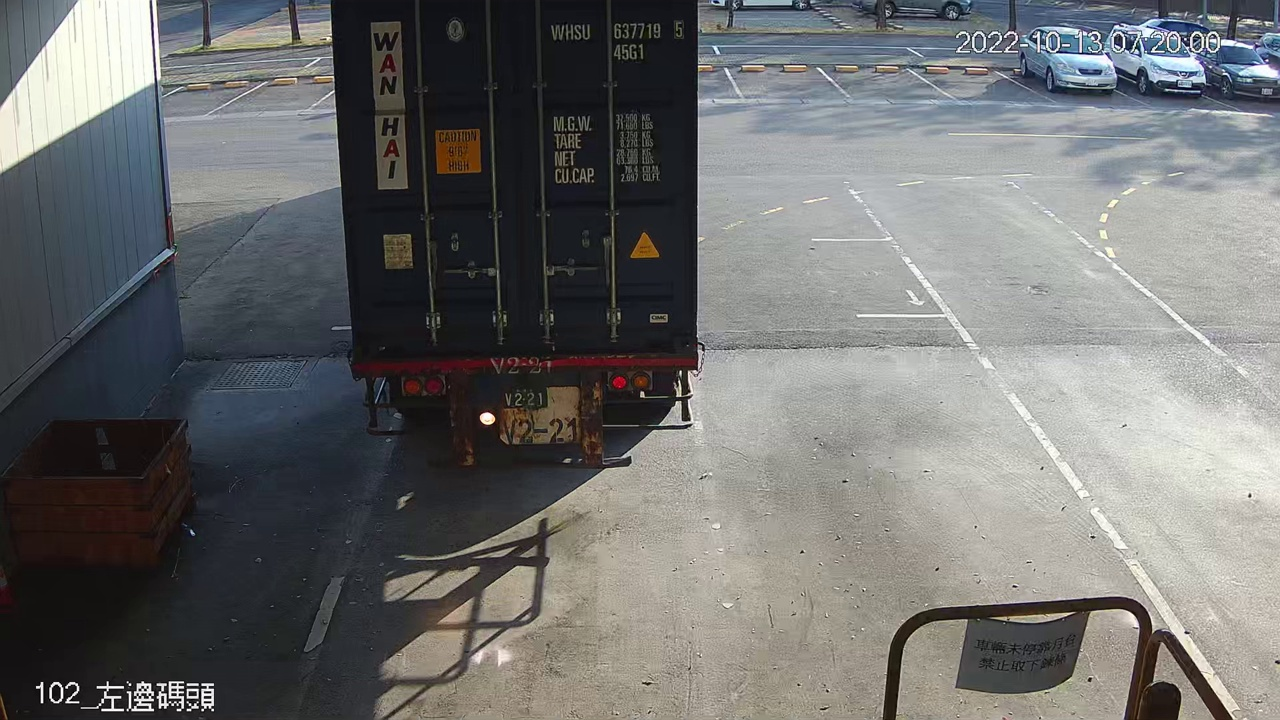container: (544, 11, 692, 64)
